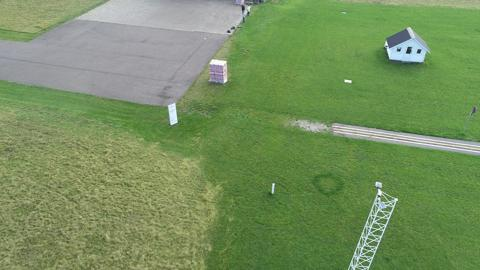RockwoolPallet: (208, 59, 229, 84)
